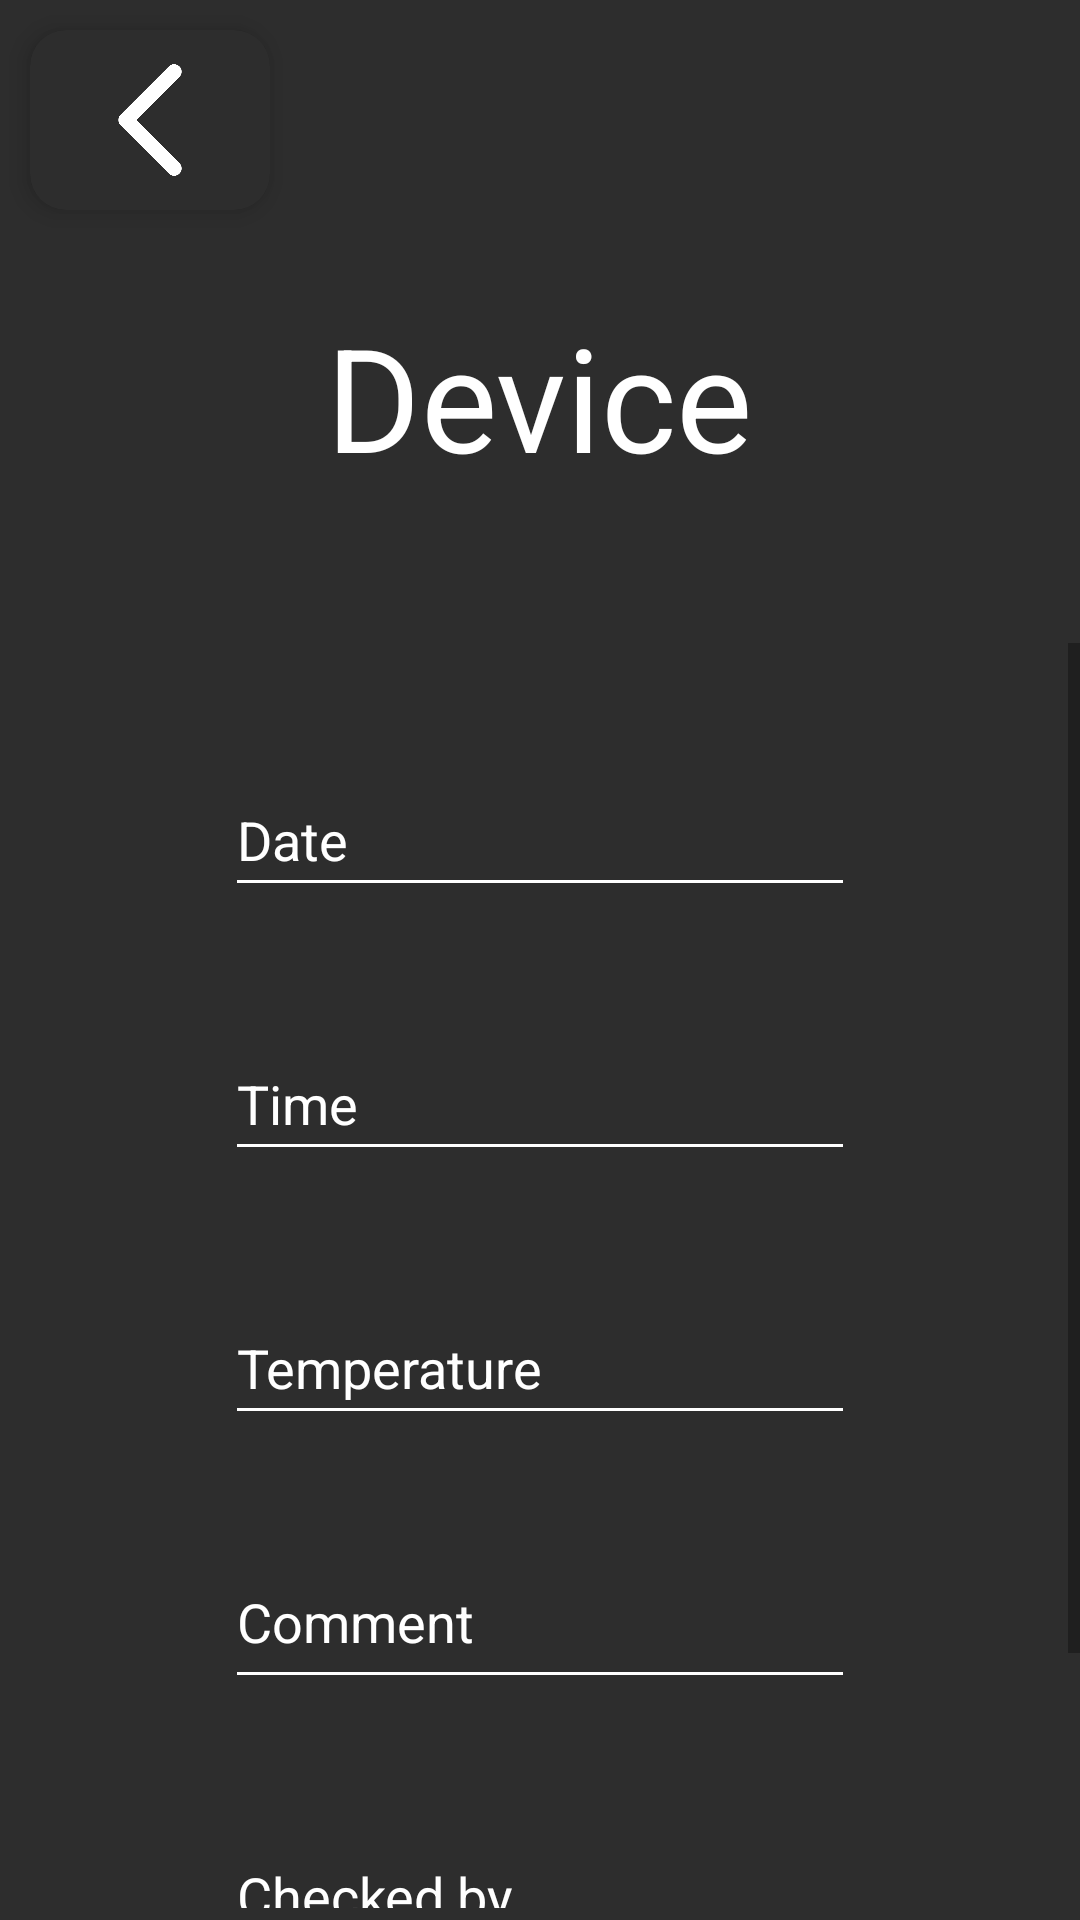

Named icons in this screenshot (1080 × 1920) and their bounding boxes, box(x1, y1, x2, y2):
backarrow: box(118, 64, 182, 176)
